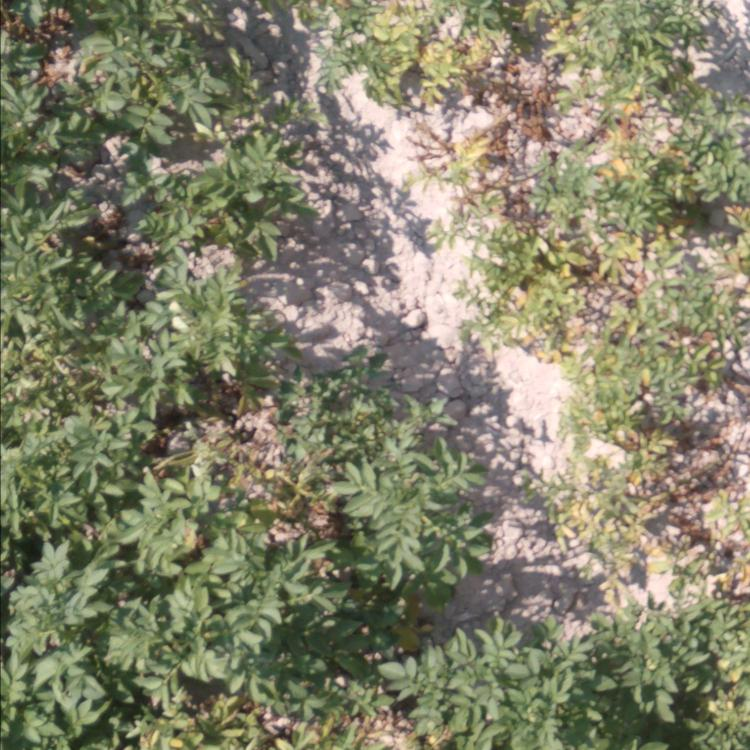healthy: (16, 513, 311, 746), (430, 625, 746, 750), (4, 6, 211, 156), (312, 383, 456, 585), (11, 162, 169, 336), (8, 345, 165, 481), (170, 164, 308, 266), (183, 282, 295, 399)
stressed: (471, 136, 639, 319), (594, 342, 740, 548), (332, 4, 521, 113), (543, 7, 653, 124), (664, 119, 750, 265)
